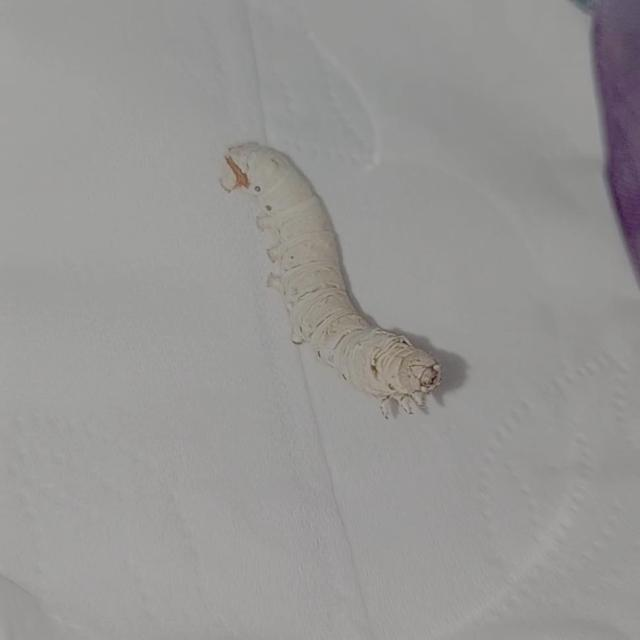Healthy: (202, 129, 474, 438)
